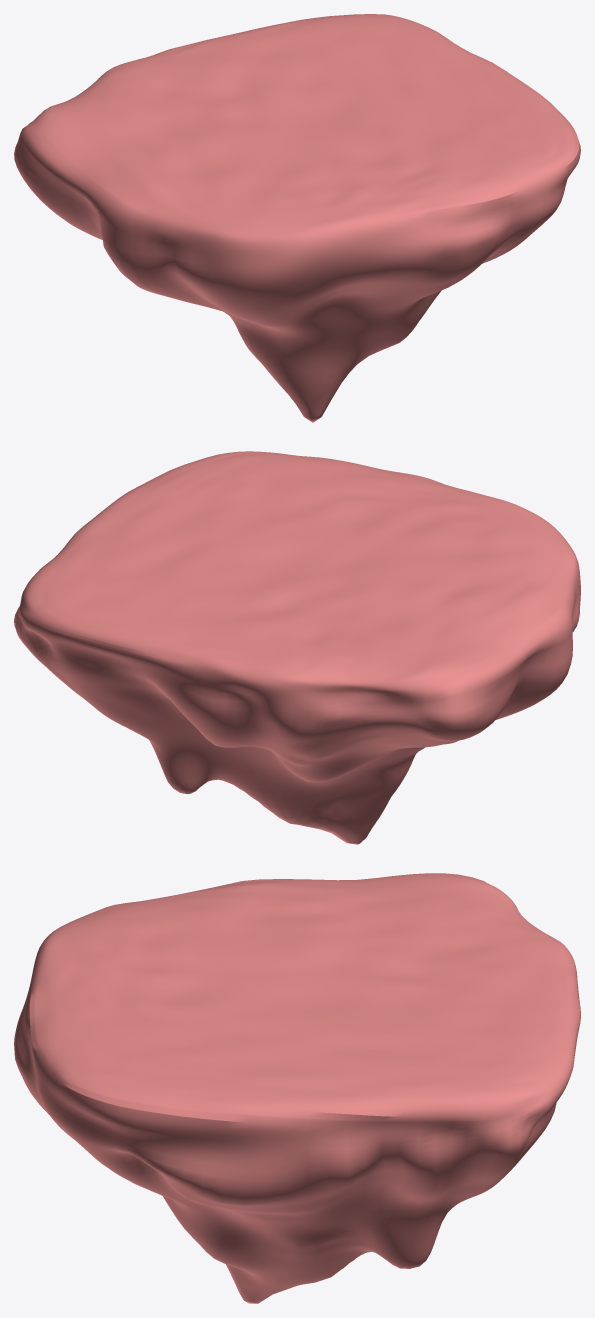
Rendered from parthisland.fbx.
3 views of the same model, one above another, from view 1: azimuth 30°, elevation 25°; view 2: azimuth 150°, elevation 25°; view 3: azimuth 270°, elevation 25° (orthographic). The views are drawn at different scales.
Visible parts, largest first — view 1: parthisland1; view 2: parthisland1; view 3: parthisland1.
Boxes of the visible parts, x1=… form: parthisland1: x1=14, y1=14, x2=580, y2=422; parthisland1: x1=14, y1=451, x2=580, y2=844; parthisland1: x1=14, y1=873, x2=580, y2=1303.
Bounding box in the file's own units: 292 × 180 × 281.
